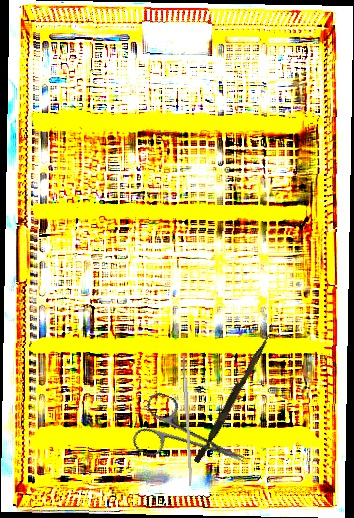Iris Scissors: (129, 389, 256, 491)
Pusher: (193, 330, 272, 466)
Scalpel Handle: (181, 354, 194, 487)
